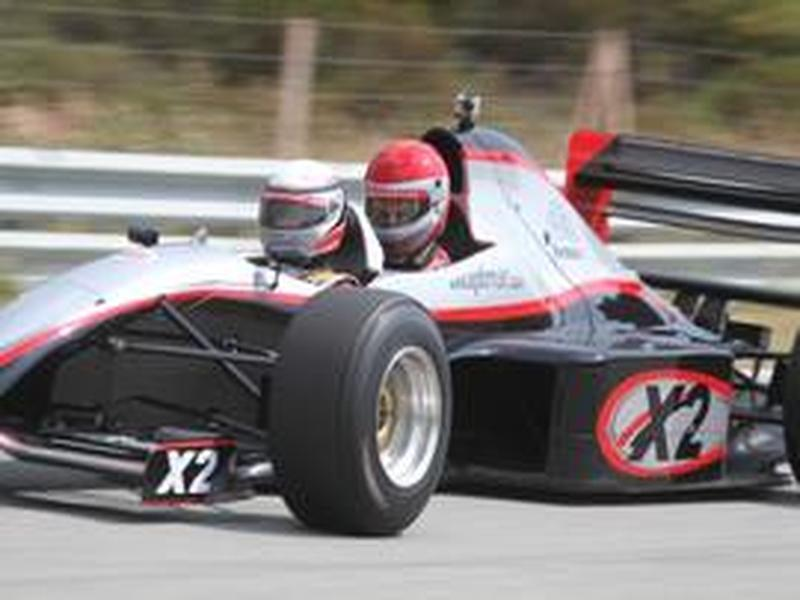f1: (10, 111, 800, 541)
